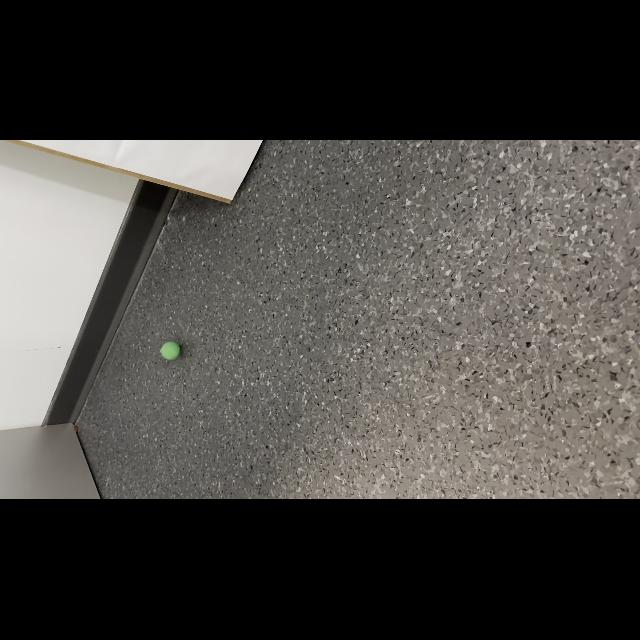objects: (160, 340, 182, 362)
